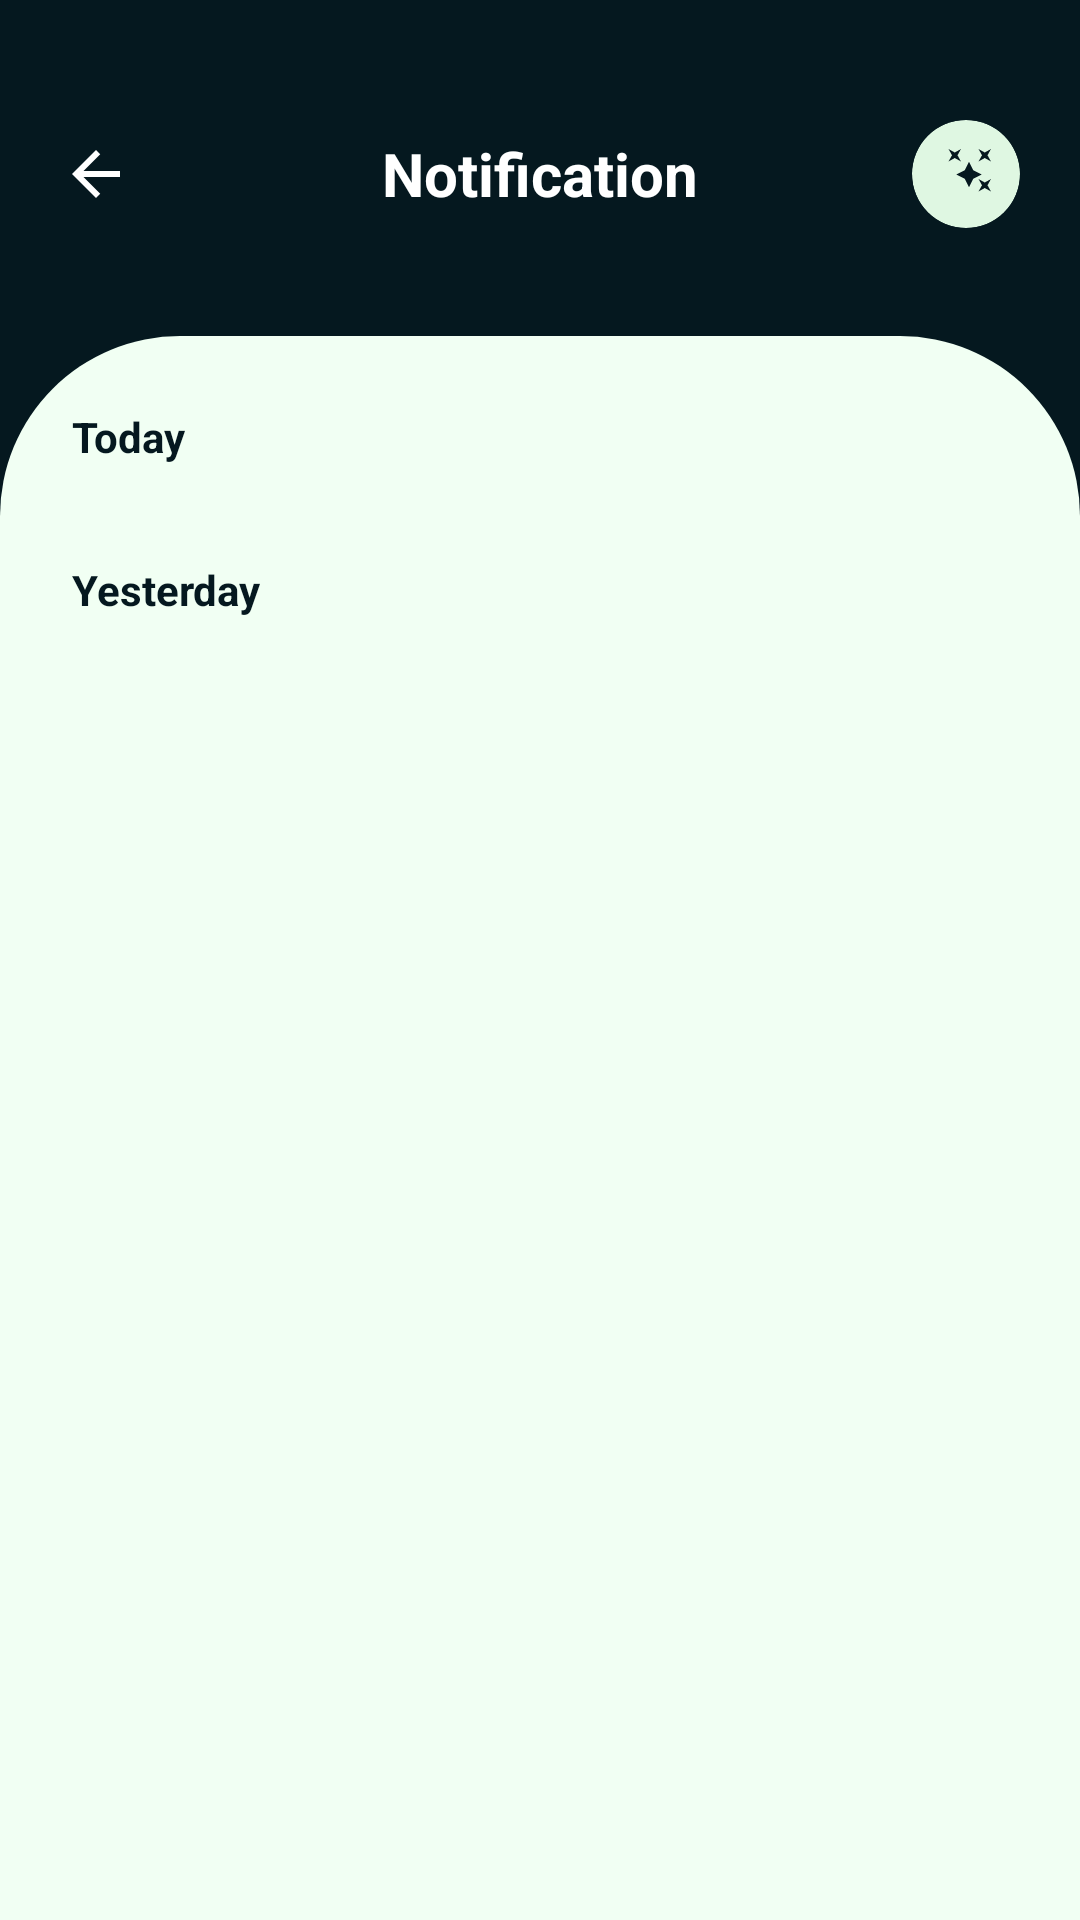

Named icons in this screenshot (1080px x 1920px) and their centers, (x,y):
ai stars: (969,170)
